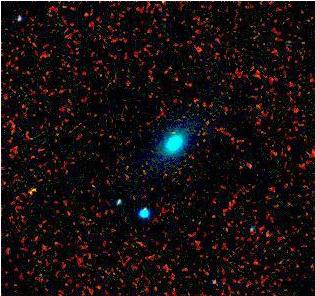star: (257, 219, 287, 249)
